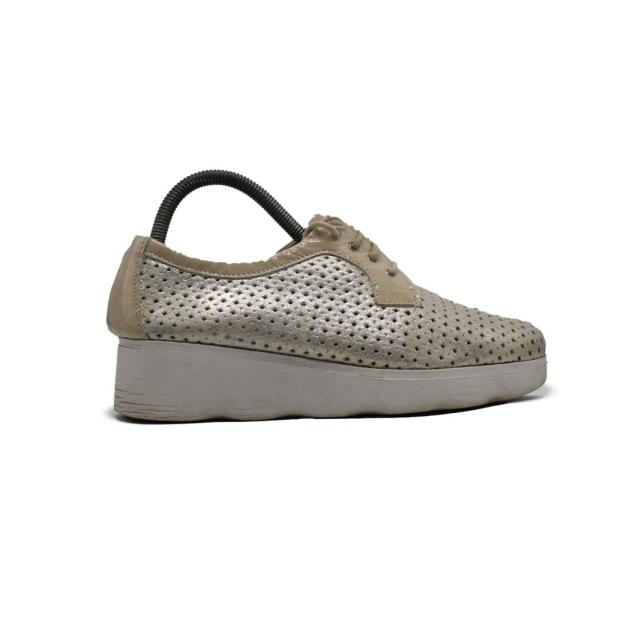heel: (107, 205, 150, 340)
midsole: (104, 337, 558, 417)
uppersole: (153, 211, 551, 367)
